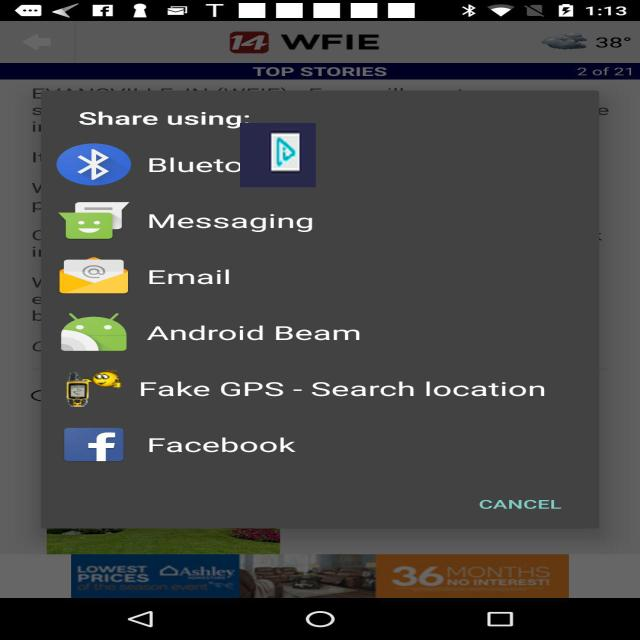sneaking: (240, 123, 316, 187)
